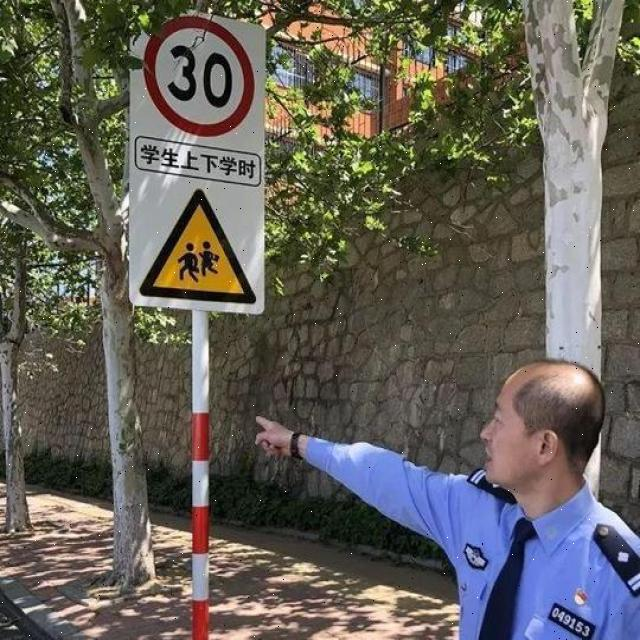speed limit 30: (144, 13, 254, 136)
